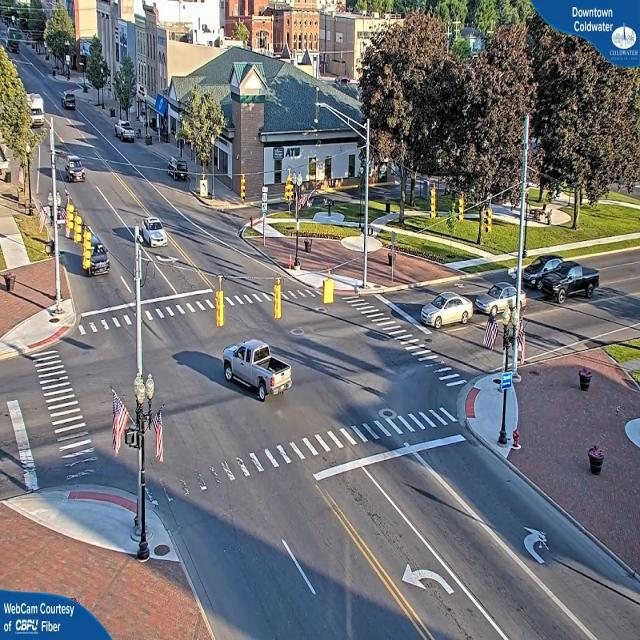car: (223, 340, 293, 403), (525, 256, 581, 302), (542, 259, 602, 301), (418, 292, 475, 331), (475, 284, 527, 314), (82, 232, 109, 278), (137, 222, 166, 248), (63, 156, 85, 182), (116, 123, 136, 143), (62, 90, 76, 111)
